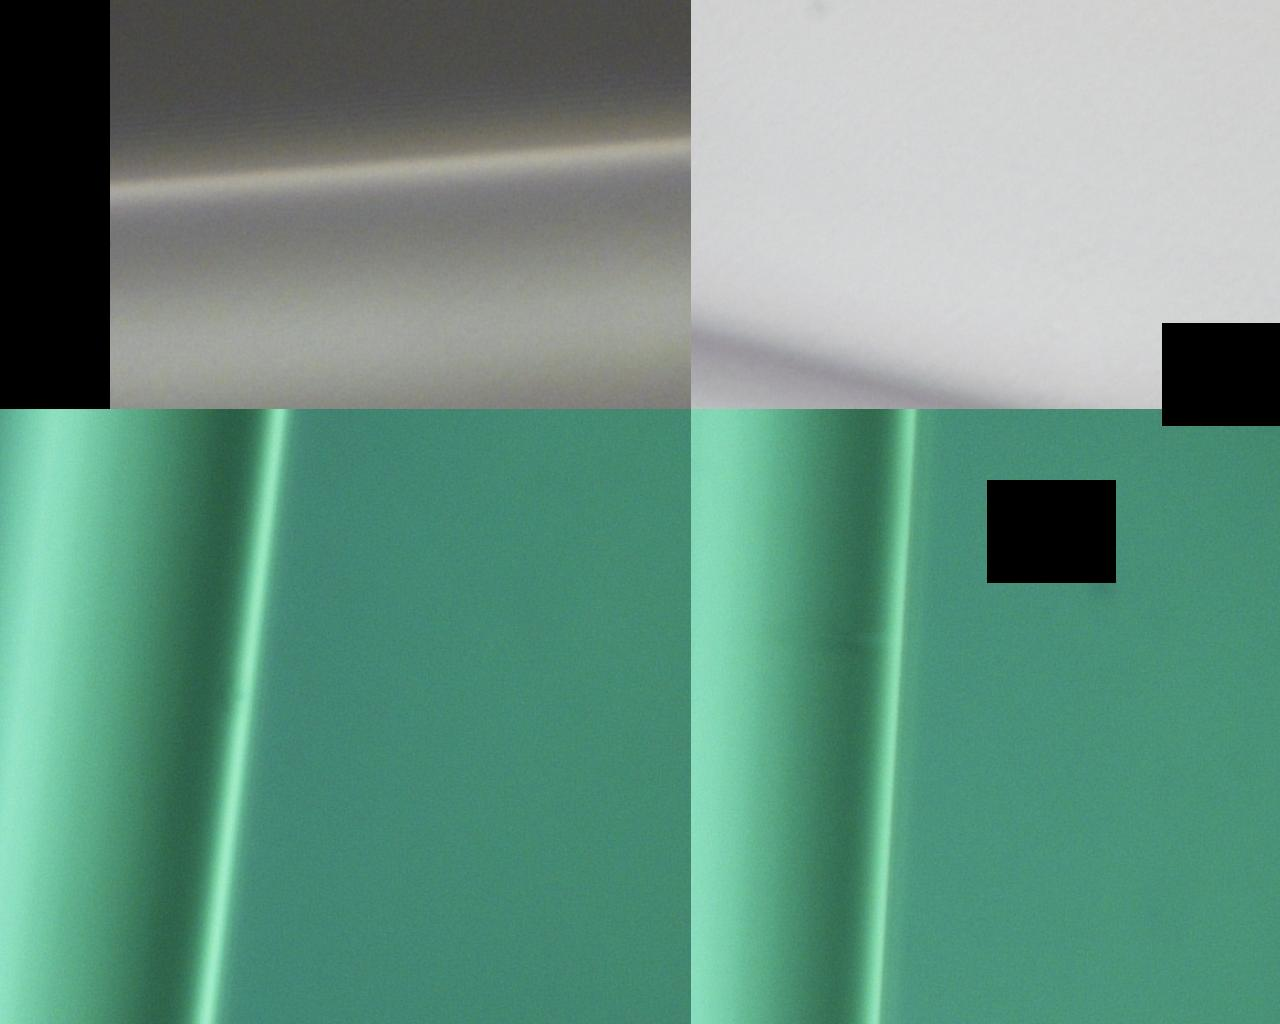fiber: (601, 244, 1280, 617), (0, 39, 601, 218)
